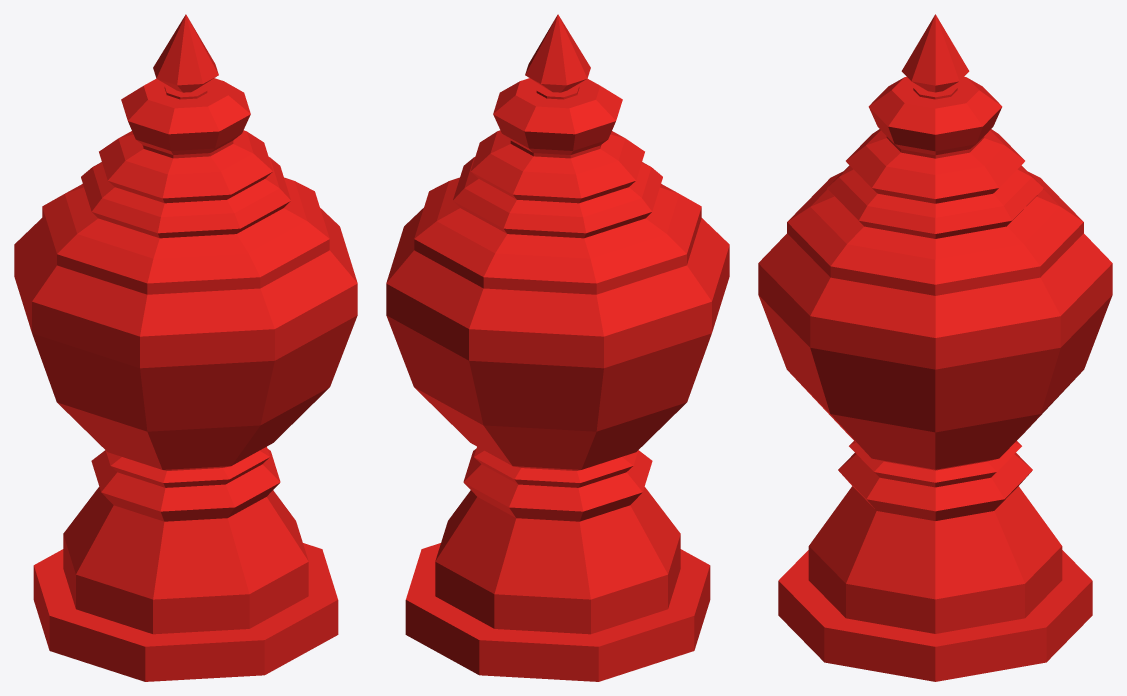
Rendered from red_khun.gltf.
The picture shows the model from 3 angles, left to right: view 1: azimuth 30°, elevation 25°; view 2: azimuth 150°, elevation 25°; view 3: azimuth 270°, elevation 25°; orthographic projection.
Parts seen in each view (by area): view 1: Duchy.r; view 2: Duchy.r; view 3: Duchy.r.
Part boxes in pixels (x1=…): Duchy.r: x1=14, y1=14, x2=357, y2=681; Duchy.r: x1=386, y1=14, x2=729, y2=681; Duchy.r: x1=758, y1=14, x2=1112, y2=681.
Bounding box in the file's own units: 0.917 × 1.72 × 0.917.
1 material, 1 textured.
